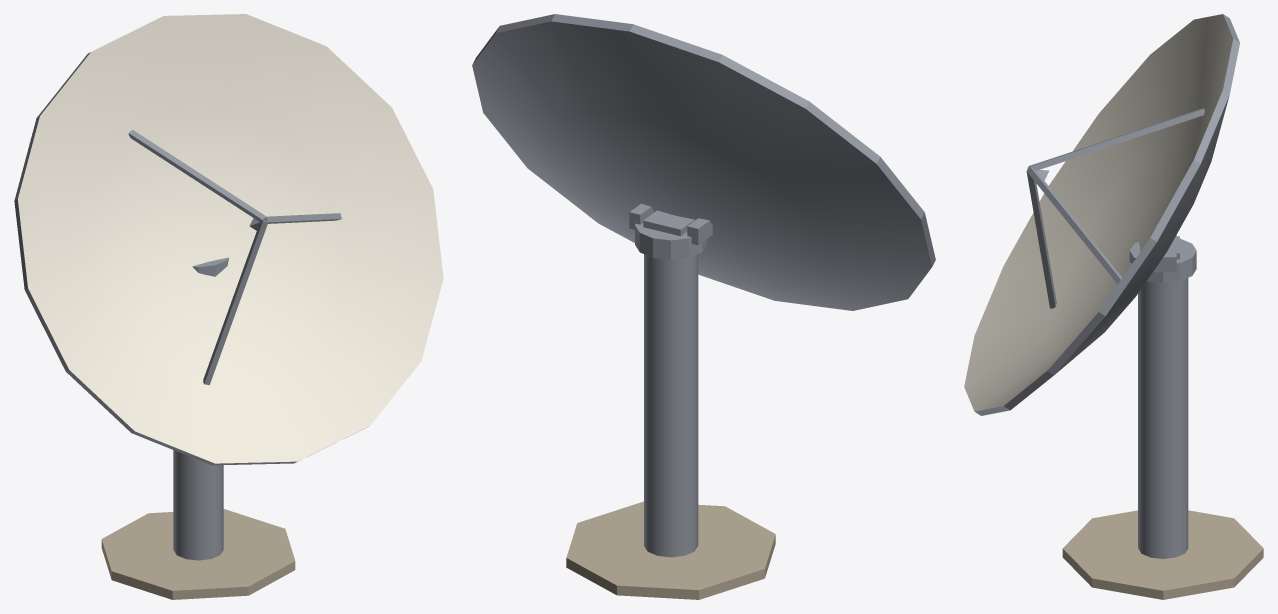
The model's file is Kit_RadarDish.glb.
3 views of the same model, side by side, from view 1: azimuth 30°, elevation 25°; view 2: azimuth 150°, elevation 25°; view 3: azimuth 270°, elevation 25° (orthographic). The views are drawn at different scales.
Parts seen in each view (by area): view 1: Kit_RadarDish_Dish, Kit_RadarDish_Base; view 2: Kit_RadarDish_Dish, Kit_RadarDish_Base; view 3: Kit_RadarDish_Dish, Kit_RadarDish_Base.
Boxes of the visible parts, x1=… form: Kit_RadarDish_Dish: x1=14, y1=14, x2=443, y2=465; Kit_RadarDish_Base: x1=101, y1=257, x2=295, y2=599; Kit_RadarDish_Dish: x1=472, y1=14, x2=935, y2=310; Kit_RadarDish_Base: x1=566, y1=203, x2=775, y2=599; Kit_RadarDish_Dish: x1=964, y1=14, x2=1239, y2=415; Kit_RadarDish_Base: x1=1062, y1=235, x2=1263, y2=599.
Size of the model in its own units: 28 by 34.16 by 17.88.
